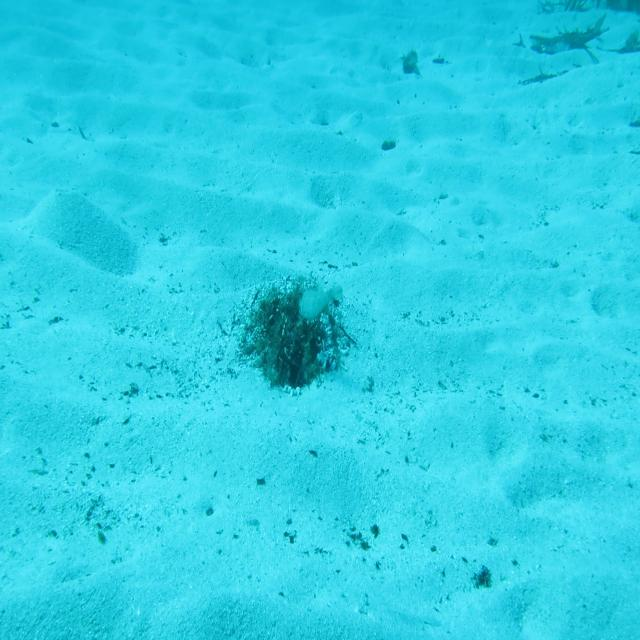LAND: (296, 275, 346, 330)
nest: (235, 277, 358, 399)
